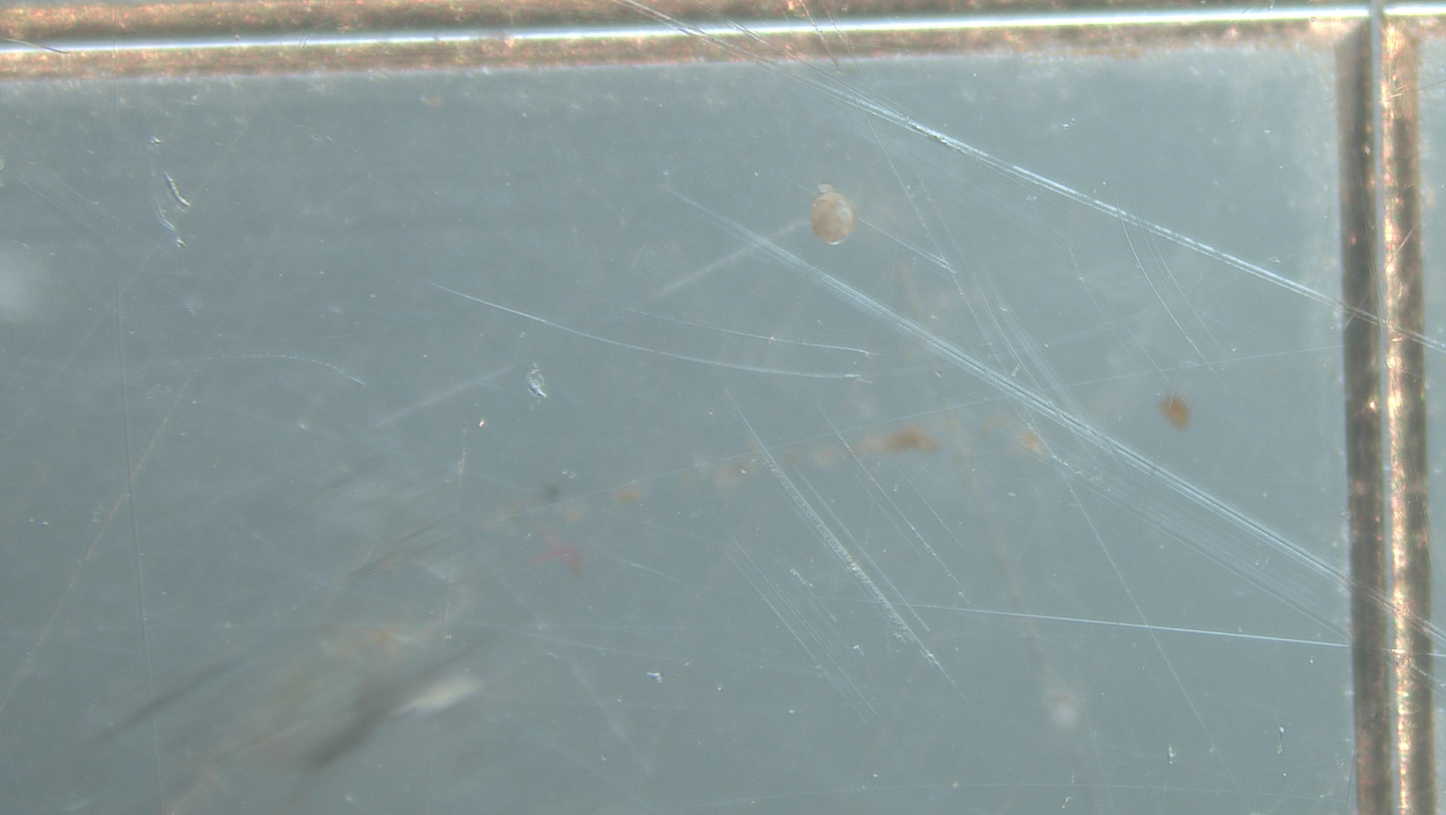live: (811, 183, 856, 244)
